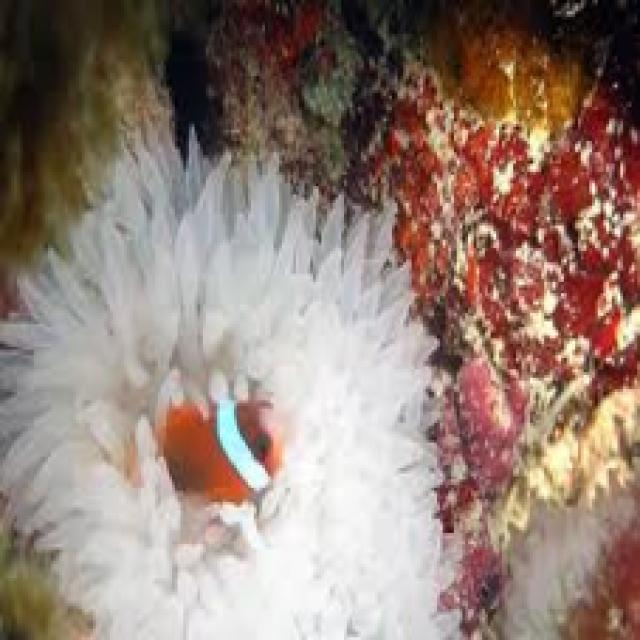Bleached: (1, 128, 466, 640)
Healthy: (380, 87, 640, 446), (208, 1, 351, 93), (438, 351, 525, 495), (562, 514, 640, 638), (444, 535, 507, 625)
